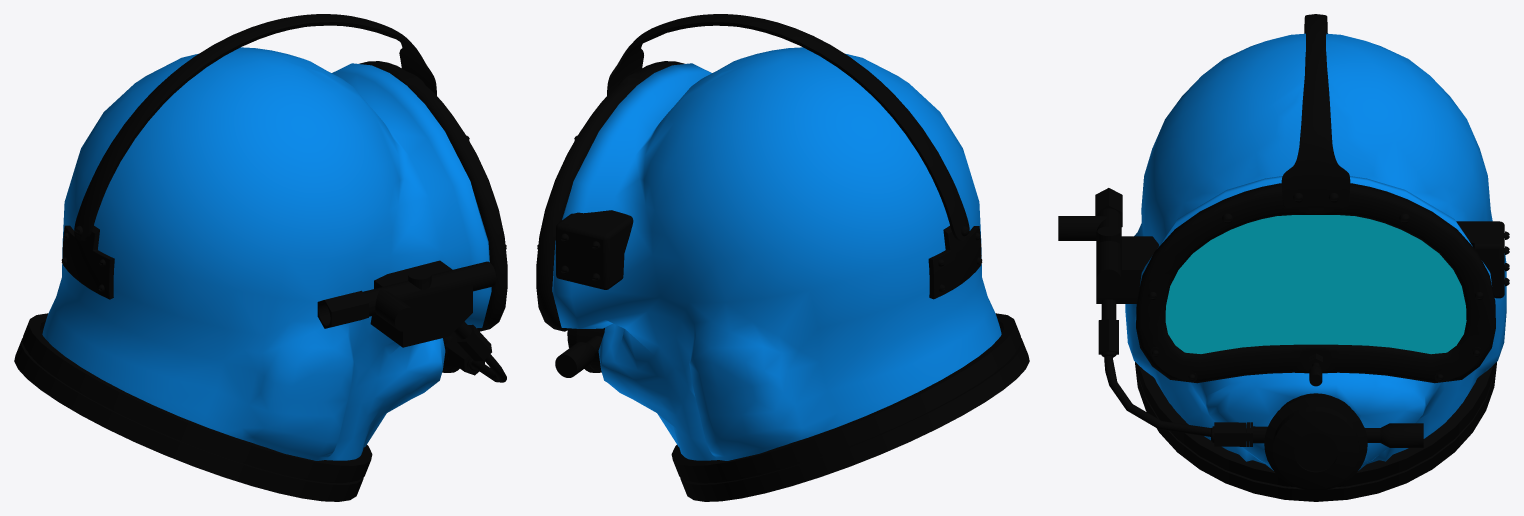
Rendered from DivingHelmet.fbx.
3 views of the same model, side by side, from view 1: azimuth 30°, elevation 25°; view 2: azimuth 150°, elevation 25°; view 3: azimuth 270°, elevation 25° (orthographic). The views are drawn at different scales.
Visible parts, largest first — view 1: main, matal, matal.001, matal.004; view 2: main, matal, matal.001, matal.002; view 3: main, matal, glass, matal.001, matal.003, matal.004, matal.002.
Part boxes in pixels (<box>): main: <box>42,47,491,460</box>; matal: <box>14,14,506,501</box>; matal.001: <box>359,61,507,331</box>; matal.004: <box>471,354,506,382</box>; main: <box>552,47,1001,460</box>; matal: <box>537,14,1029,501</box>; matal.001: <box>536,61,684,331</box>; matal.002: <box>555,342,594,377</box>; main: <box>1125,33,1506,470</box>; matal: <box>1058,14,1509,501</box>; glass: <box>1165,215,1466,354</box>; matal.001: <box>1136,183,1495,383</box>; matal.003: <box>1264,393,1367,490</box>; matal.004: <box>1104,356,1211,436</box>; matal.002: <box>1380,423,1423,447</box>.
Bounding box in the file's own units: 269 × 276 × 256.
